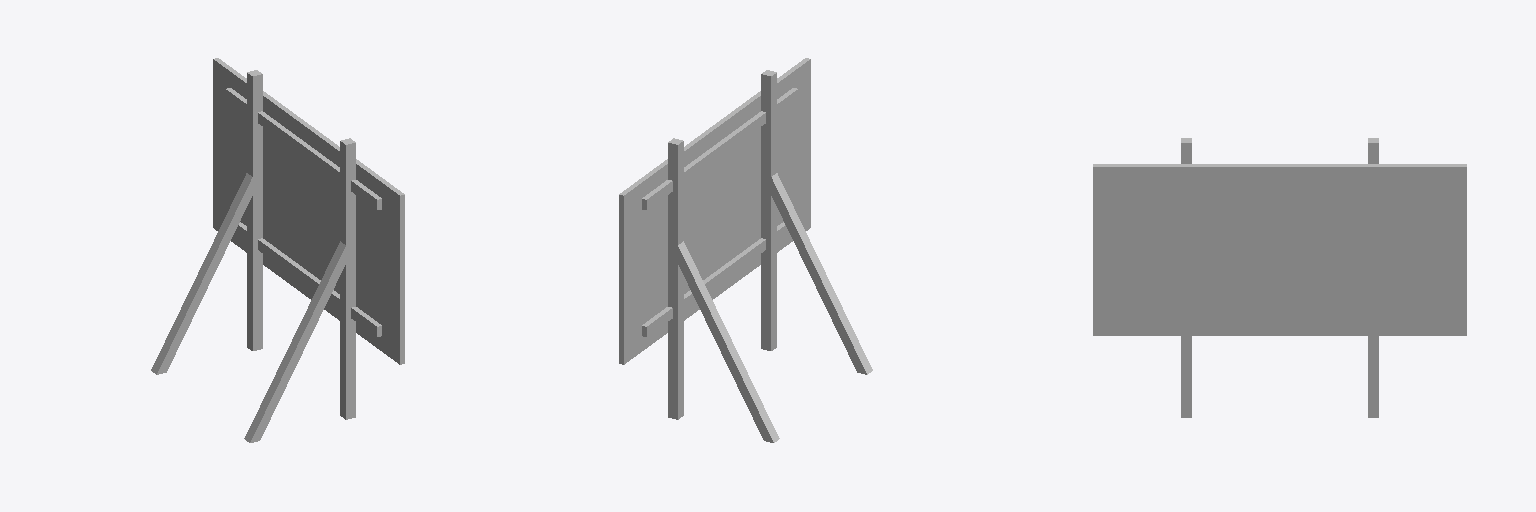
The model's file is Billboard_Type1.obj.
3 views of the same model, side by side, from view 1: azimuth 30°, elevation 25°; view 2: azimuth 150°, elevation 25°; view 3: azimuth 270°, elevation 25° (orthographic).
Parts seen in each view (by area): view 1: Billboard_Type1_Cube.013; view 2: Billboard_Type1_Cube.013; view 3: Billboard_Type1_Cube.013.
Boxes of the visible parts, x1,y1,x2,y2 form: Billboard_Type1_Cube.013: [151, 58, 404, 442]; Billboard_Type1_Cube.013: [619, 58, 872, 442]; Billboard_Type1_Cube.013: [1093, 138, 1466, 417].
Bounding box in the file's own units: 1.38 × 3.25 × 4.